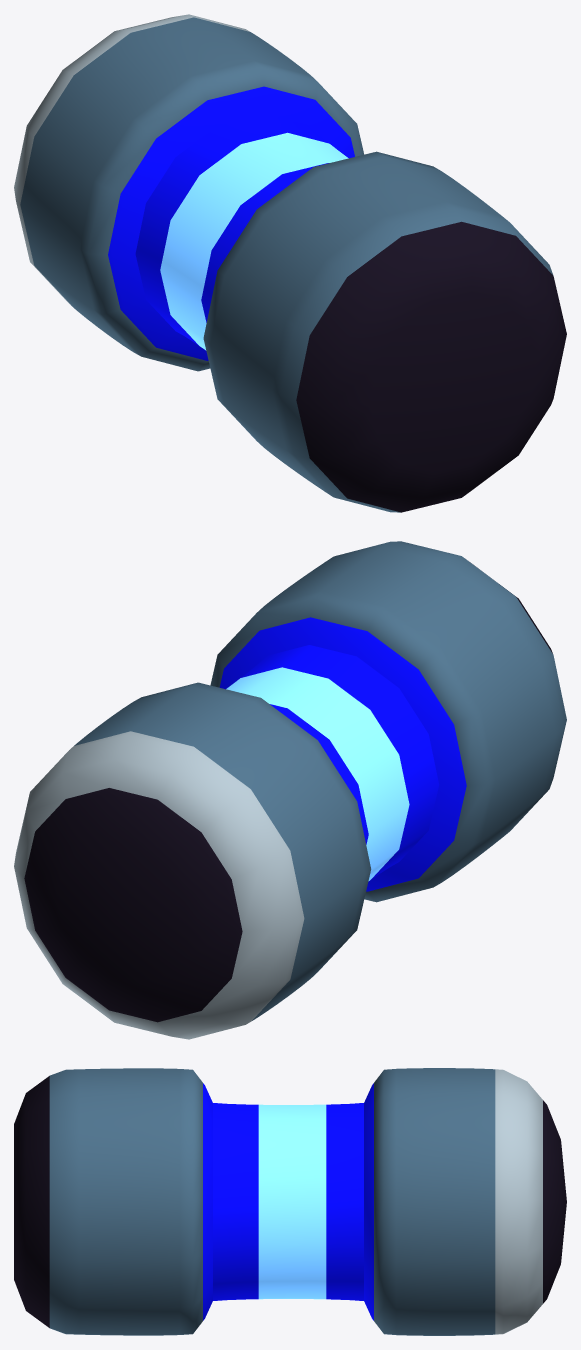
File: shot_canister_blue.glb
3 views of the same model, one above another, from view 1: azimuth 30°, elevation 25°; view 2: azimuth 150°, elevation 25°; view 3: azimuth 270°, elevation 25° (orthographic). The views are drawn at different scales.
Parts seen in each view (by area): view 1: cb_body0, cb_body1, cb_body5, cb_body4, cb_body3, cb_body6, cb_body2; view 2: cb_body1, cb_body7, cb_body6, cb_body5, cb_body2, cb_body3, cb_body4; view 3: cb_body1, cb_body5, cb_body3, cb_body6, cb_body2, cb_body4, cb_body0, cb_body7.
Boxes of the visible parts, bbox=[...] form: cb_body0: bbox=[296, 221, 566, 512]; cb_body1: bbox=[203, 151, 553, 512]; cb_body5: bbox=[20, 17, 364, 371]; cb_body4: bbox=[108, 86, 354, 360]; cb_body3: bbox=[160, 132, 348, 350]; cb_body6: bbox=[14, 14, 249, 305]; cb_body2: bbox=[201, 163, 328, 322]; cb_body1: bbox=[210, 541, 566, 902]; cb_body7: bbox=[24, 788, 242, 1022]; cb_body6: bbox=[14, 731, 304, 1039]; cb_body5: bbox=[74, 682, 371, 1020]; cb_body2: bbox=[219, 617, 466, 891]; cb_body3: bbox=[226, 667, 409, 881]; cb_body4: bbox=[270, 704, 368, 844]; cb_body1: bbox=[49, 1068, 202, 1335]; cb_body5: bbox=[374, 1068, 495, 1335]; cb_body3: bbox=[258, 1104, 326, 1299]; cb_body6: bbox=[495, 1069, 542, 1334]; cb_body2: bbox=[203, 1083, 258, 1320]; cb_body4: bbox=[326, 1083, 373, 1320]; cb_body0: bbox=[14, 1076, 49, 1327]; cb_body7: bbox=[543, 1100, 566, 1303].
Size of the model in its own units: 6.89 by 6.71 by 13.9.
